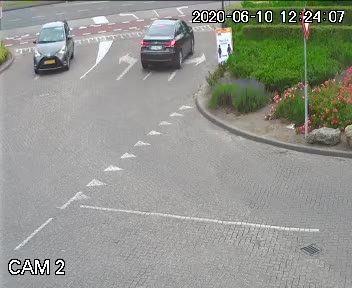car: (139, 18, 193, 72), (30, 21, 80, 78)
